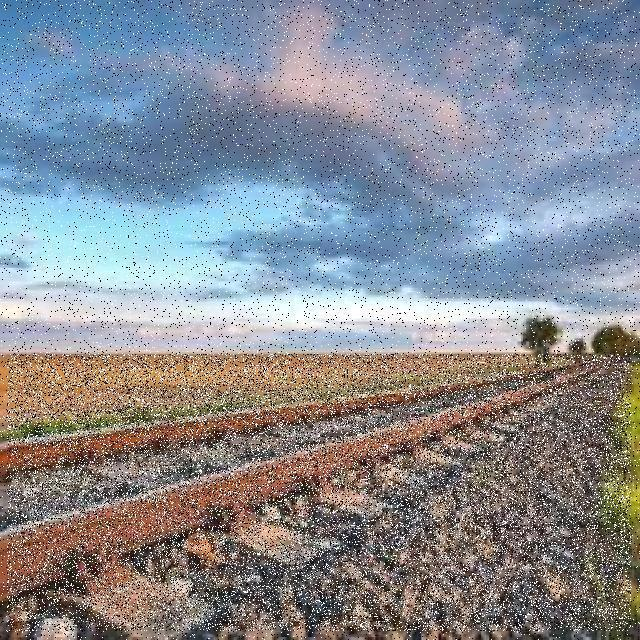rail: (8, 355, 632, 632)
